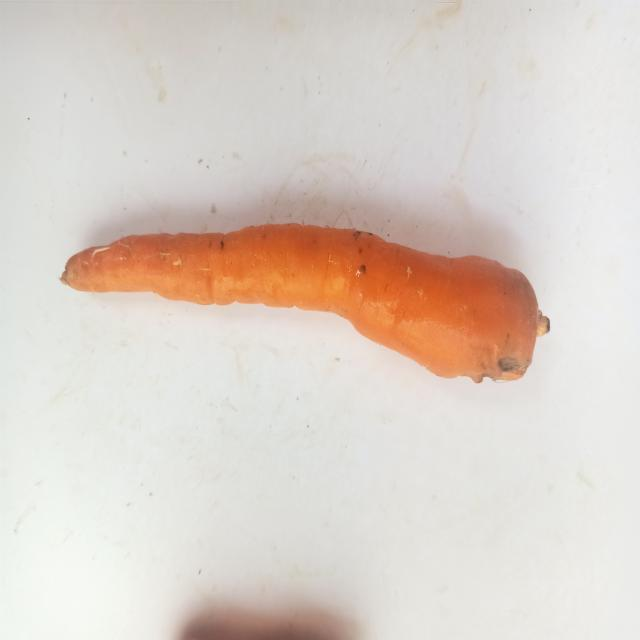Carrot: (51, 212, 558, 402)
